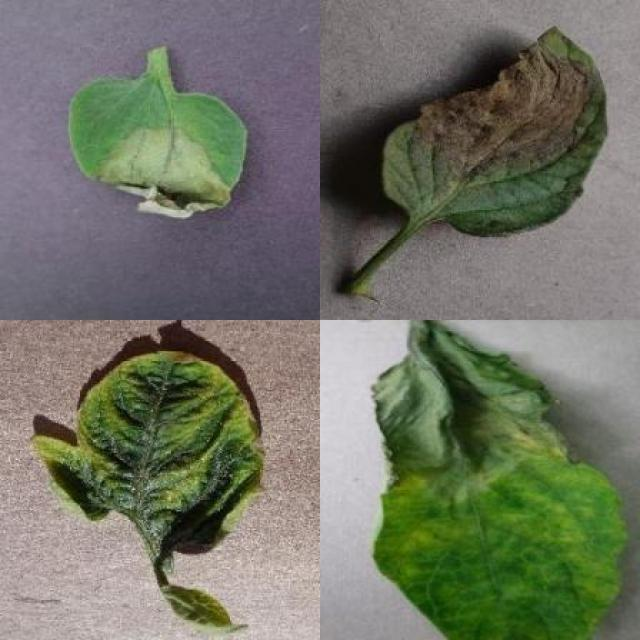Late Blight: (366, 320, 627, 640), (378, 25, 611, 242), (68, 74, 248, 219)
Yellow Leaf Curl Virus: (32, 348, 268, 556)
